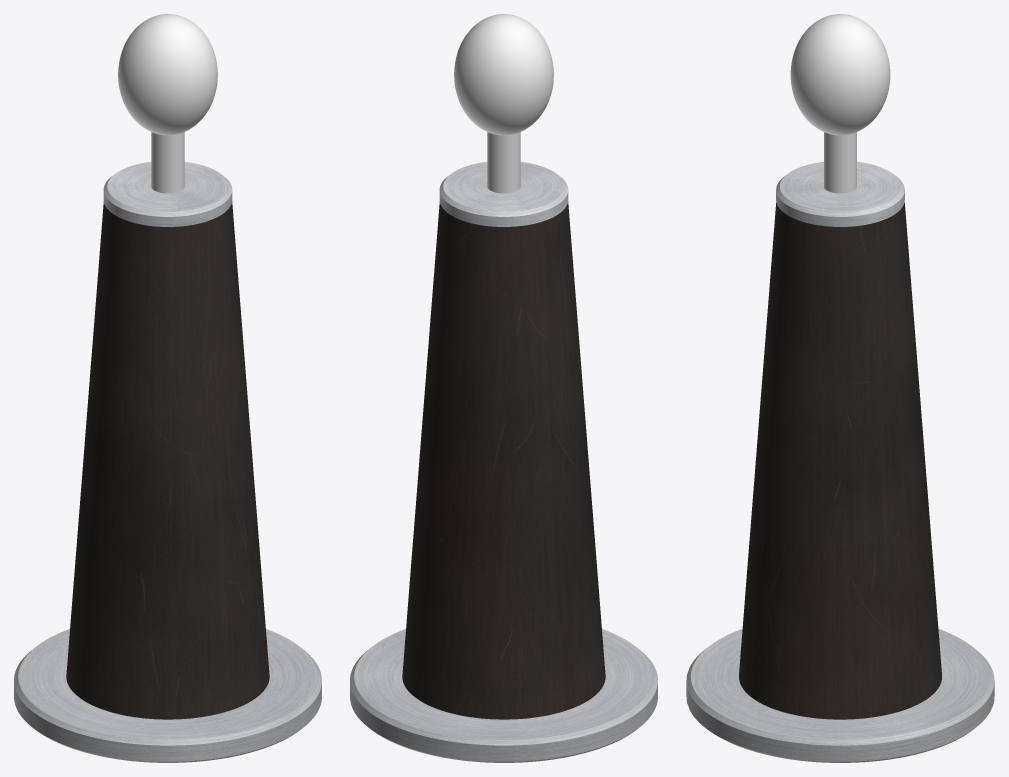
Rendered from queen-black-hd.glb.
3 renders of one model, left to right at view 1: azimuth 30°, elevation 25°; view 2: azimuth 150°, elevation 25°; view 3: azimuth 270°, elevation 25°, orthographic.
Visible parts, largest first — view 1: ferro-orbis_queen_black; view 2: ferro-orbis_queen_black; view 3: ferro-orbis_queen_black.
Boxes of the visible parts, bbox=[...] form: ferro-orbis_queen_black: bbox=[14, 14, 321, 762]; ferro-orbis_queen_black: bbox=[350, 14, 657, 762]; ferro-orbis_queen_black: bbox=[686, 14, 994, 762].
Size of the model in its own units: 0.5943 by 1.45 by 0.5943.
Materials: 5 (3 with a texture image).
